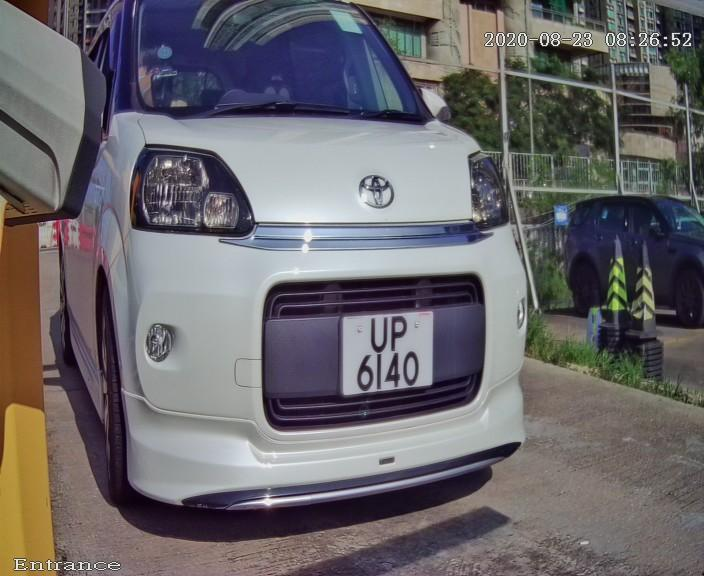License Plate: (331, 299, 444, 409)
